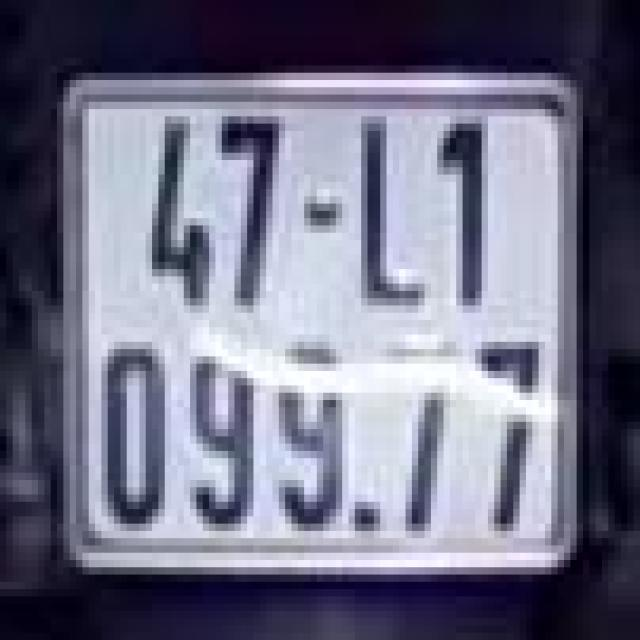0: (98, 342, 181, 538)
1: (437, 113, 494, 316)
4: (139, 106, 222, 316)
7: (469, 316, 551, 549), (374, 331, 462, 542), (219, 109, 288, 313)
9: (184, 338, 266, 527), (272, 334, 348, 531)
L: (348, 102, 424, 313)
